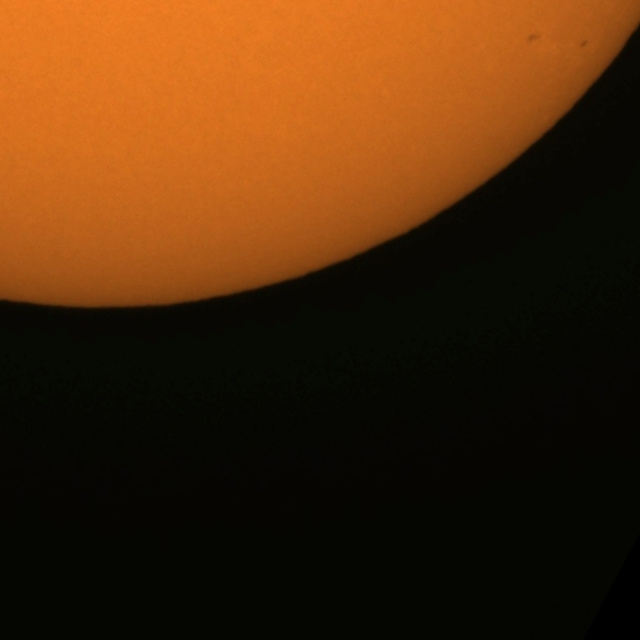sunspot: (525, 29, 543, 46), (579, 38, 589, 50)
